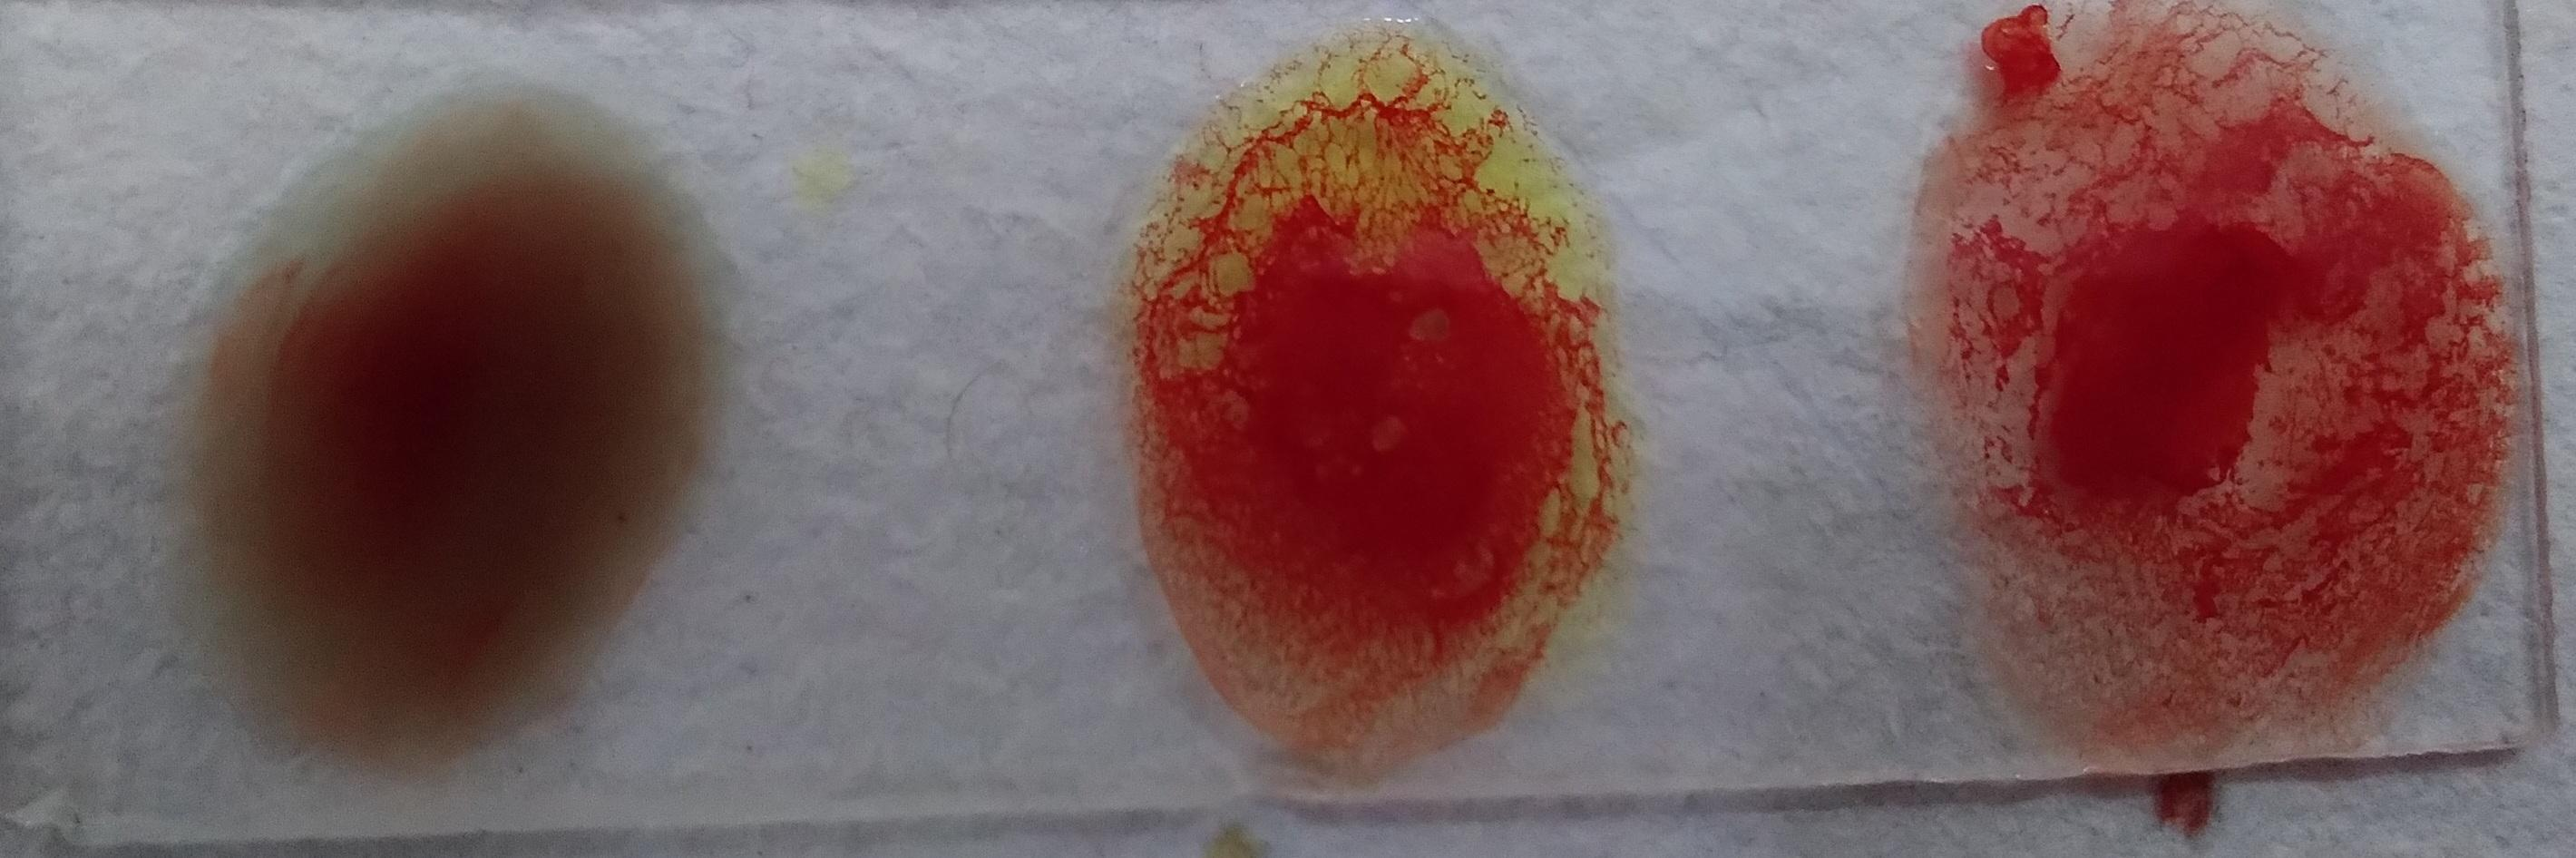B: (943, 94, 1449, 837)
D: (67, 122, 664, 858)
